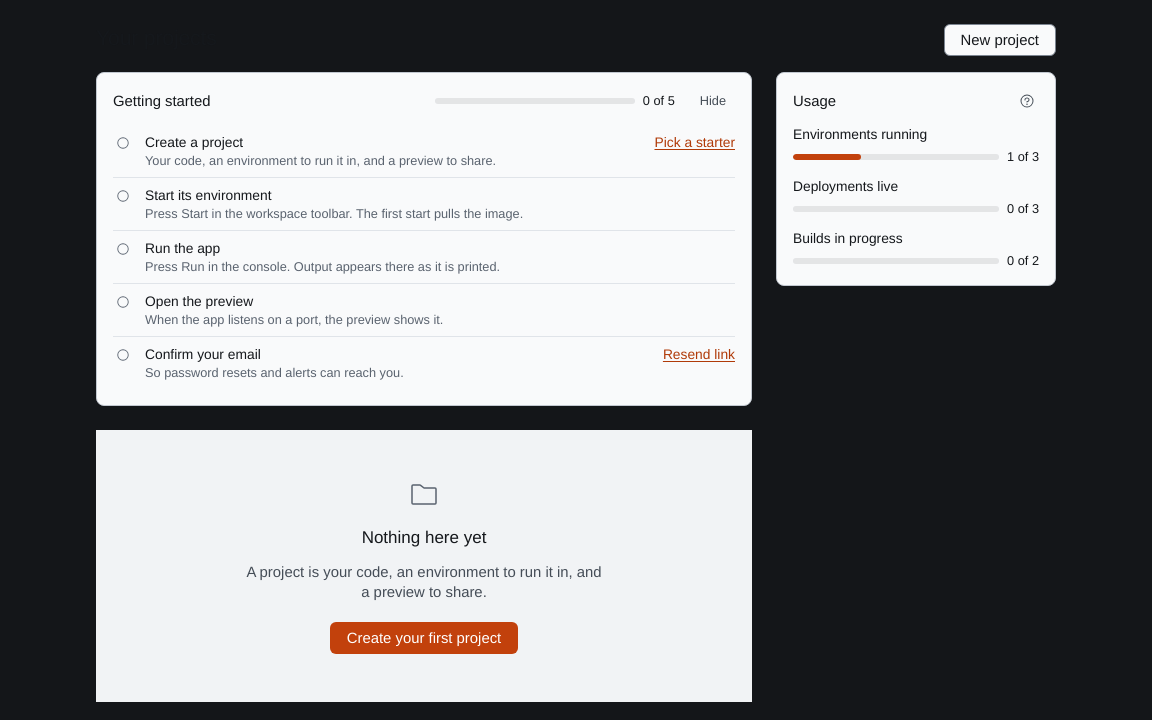
Test: ProjectsPage › shows a slug conflict against the URL field
Expected: the text "Nothing here yet" is shown, [362,526,486,550]
Click the button "Create your first project". click: (424, 638)
box: [330,622,518,654]
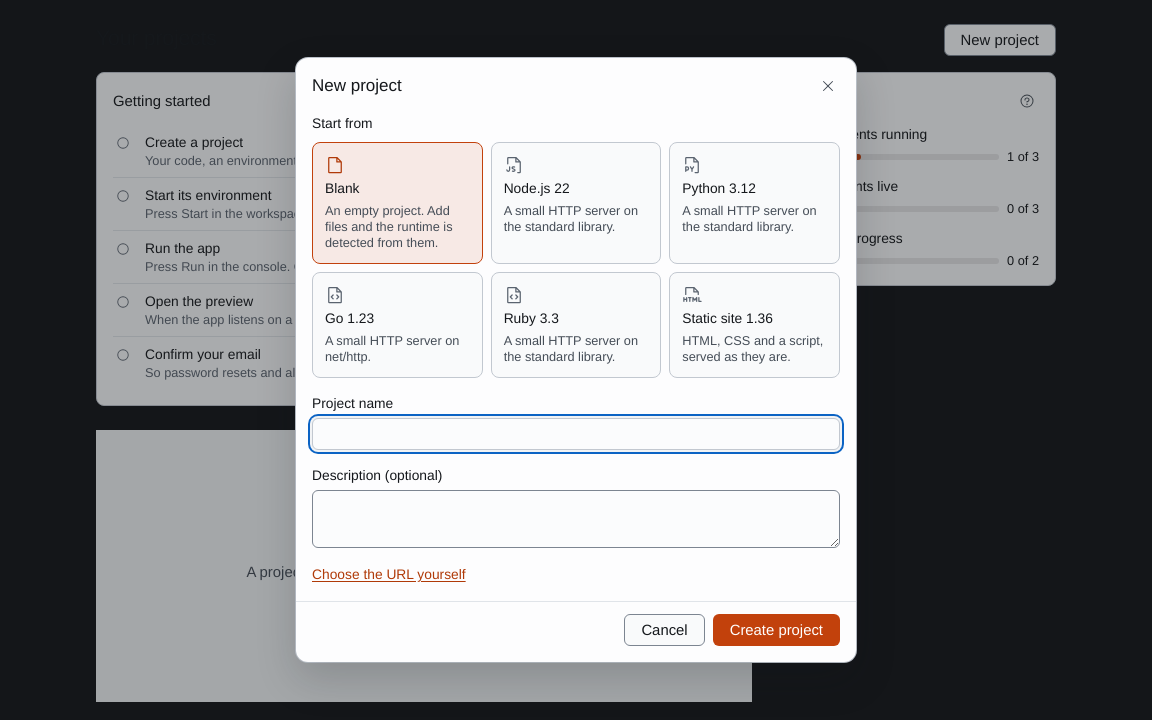
Type "Engine" into the field labelled "Project name". click: (576, 434)
box: [313,419,839,449]
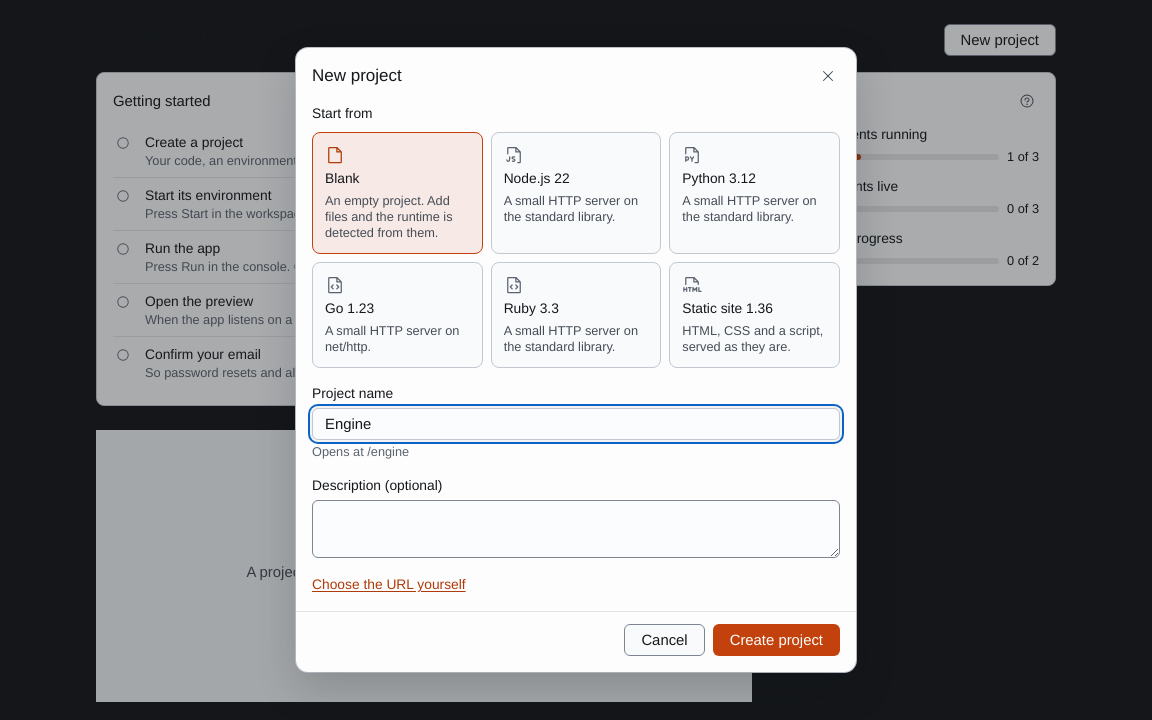
Click the button "Choose the URL yourself". click: (389, 585)
box: [312,575,466,595]
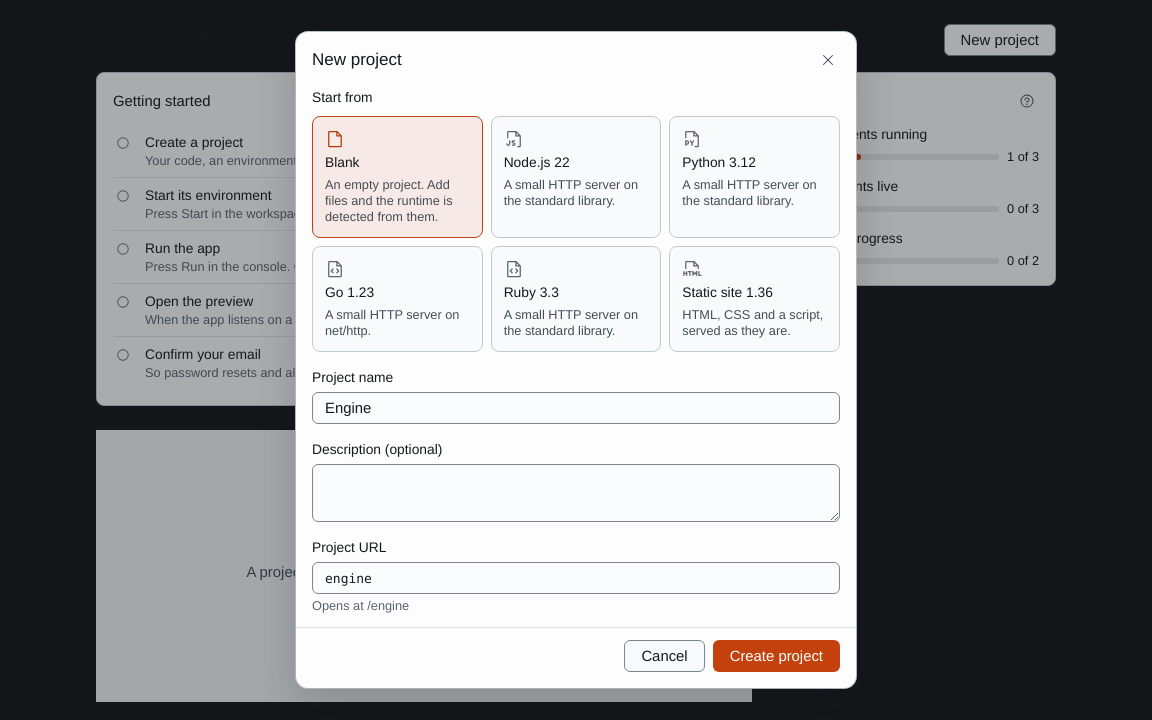
Click the button "Create project". click: (776, 656)
box: [713,640,840,672]
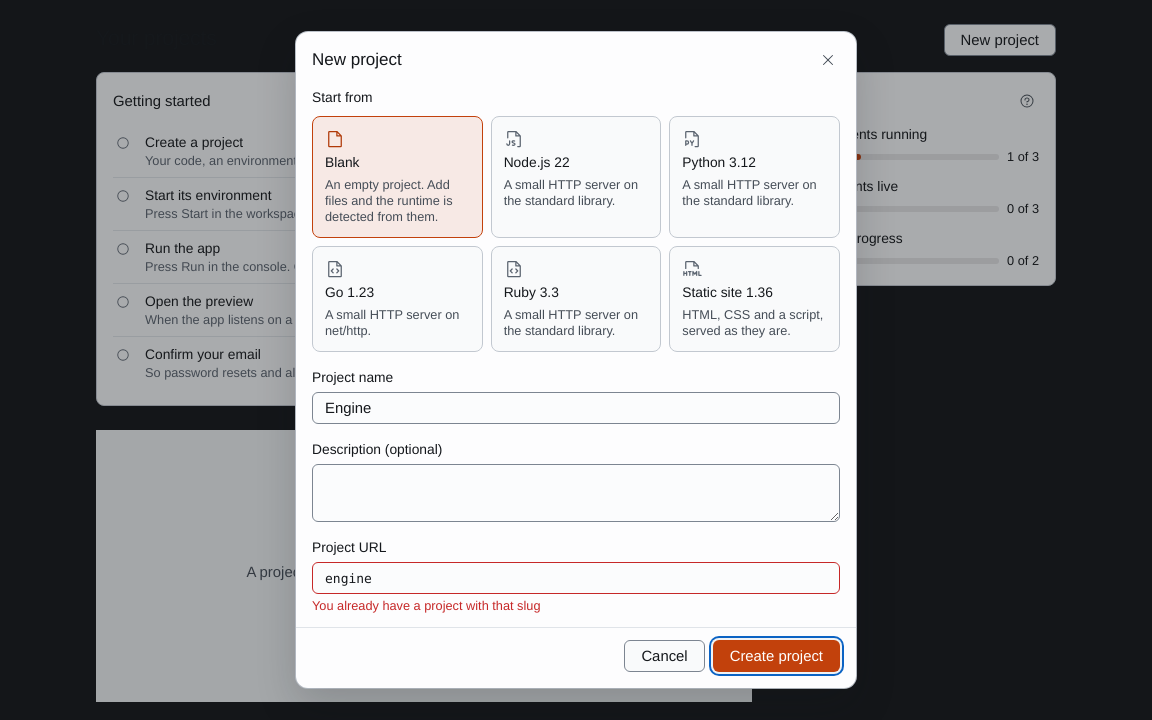
Now the text "You already have a project with that slug" is shown, box [312,598,540,614]
